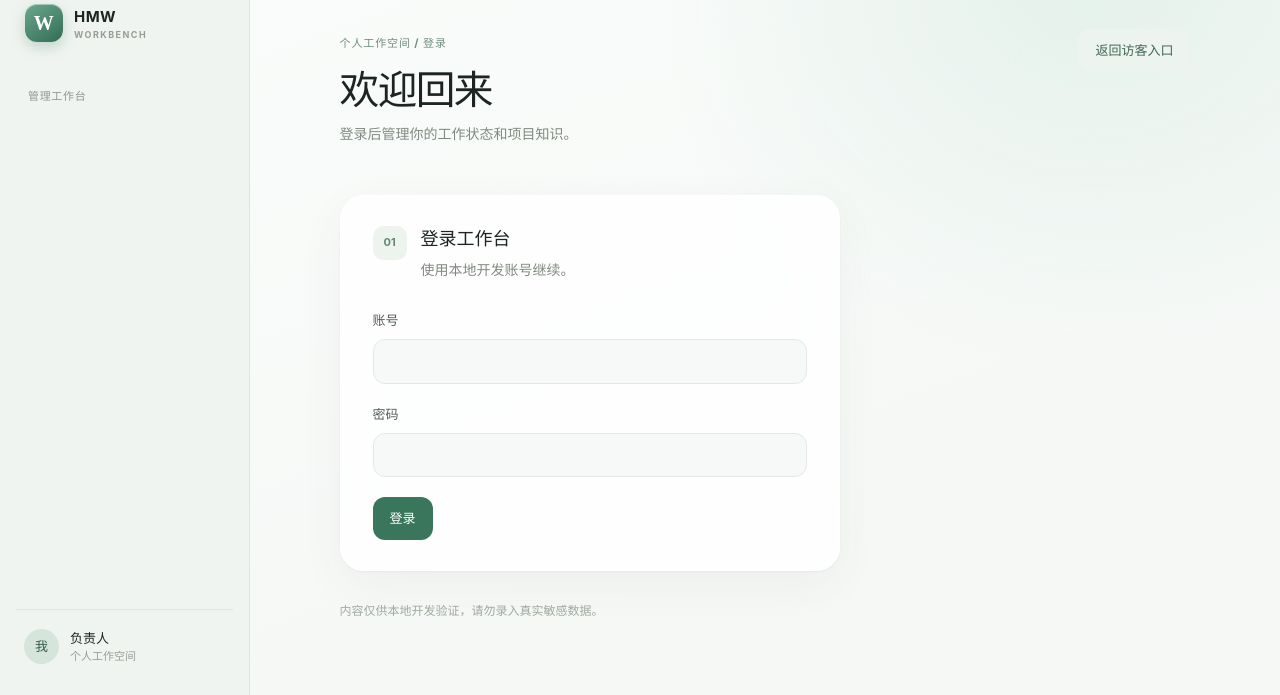
Test: allows the owner to withdraw a published status
The width and height of the screenshot is (1280, 695).
Step 1. Type "owner" into the field labelled "账号" → (590, 361), box [373,339,807,384]
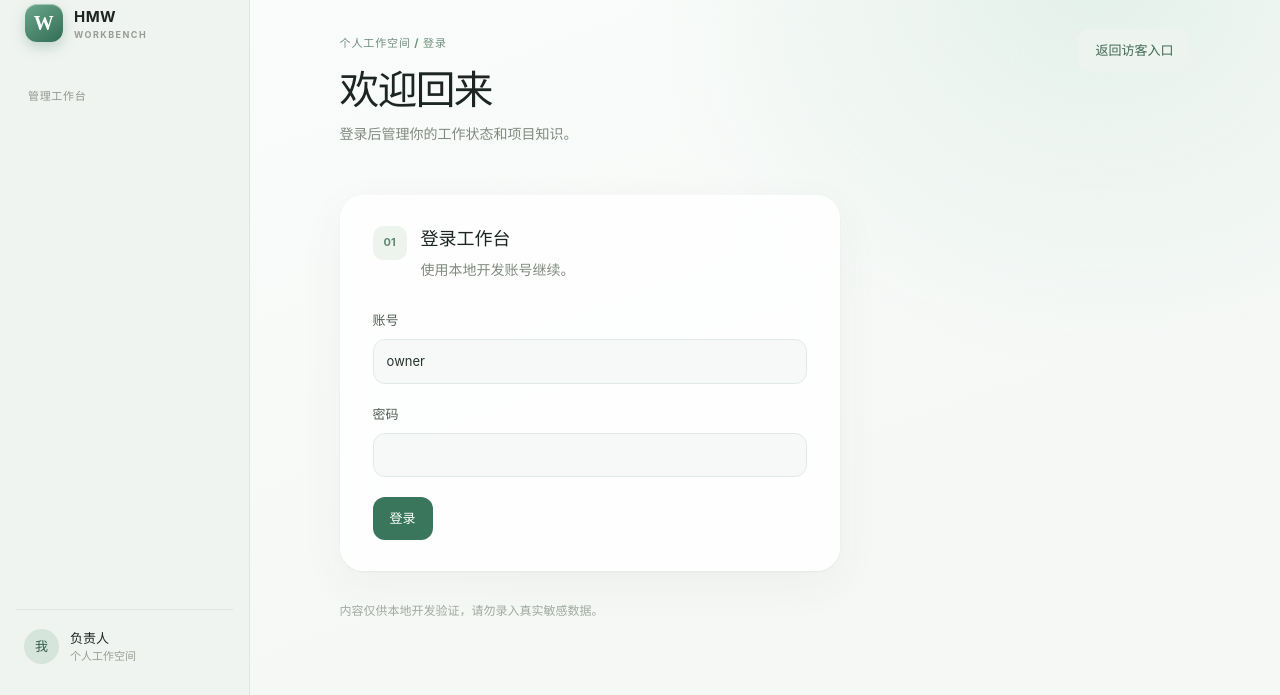
Step 2. Type "password" into the password field labelled "密码" → (590, 455), box [373,432,807,477]
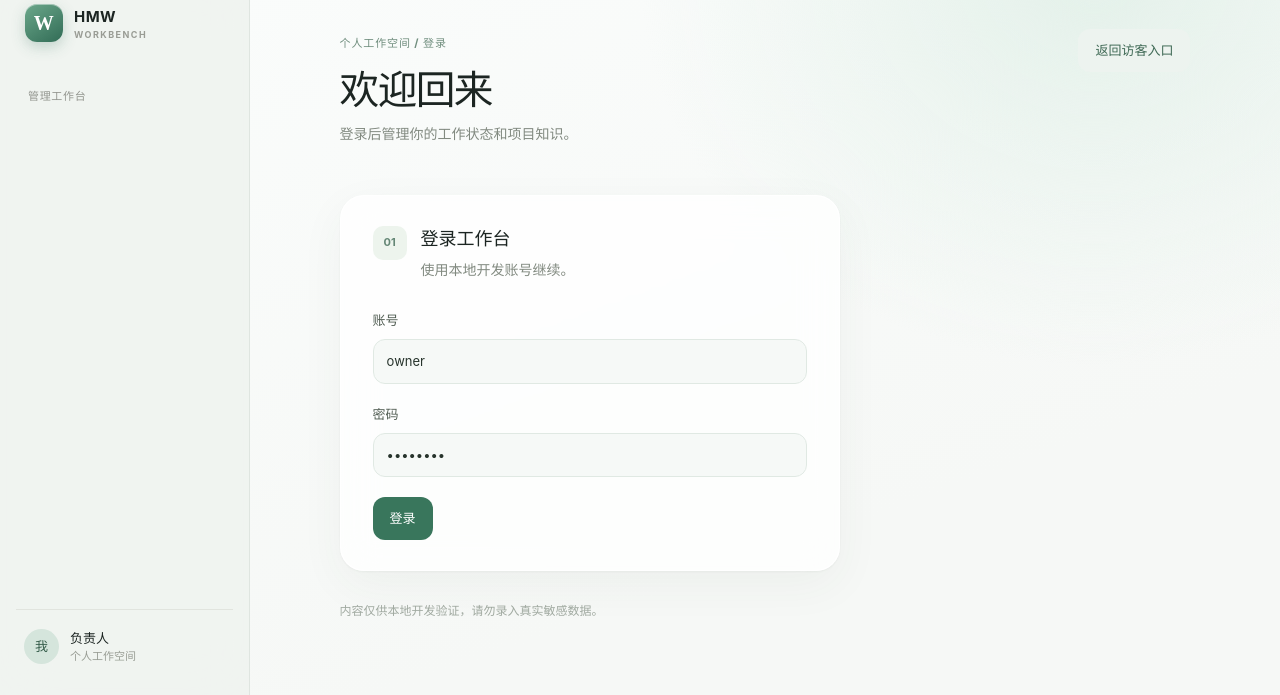
Step 3. Click the button "登录" → (403, 519), box [373,497,433,540]
(page scrolled)
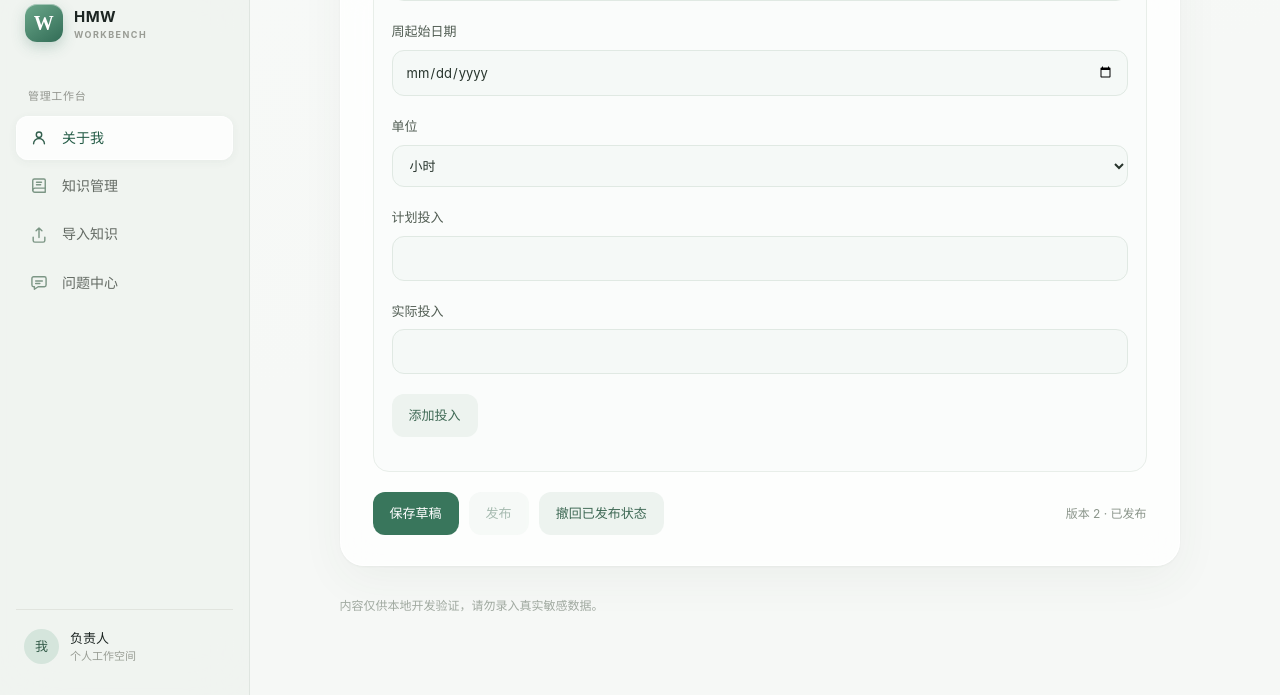
Step 4. Click the button "撤回已发布状态" → (601, 514), box [539,492,664,535]
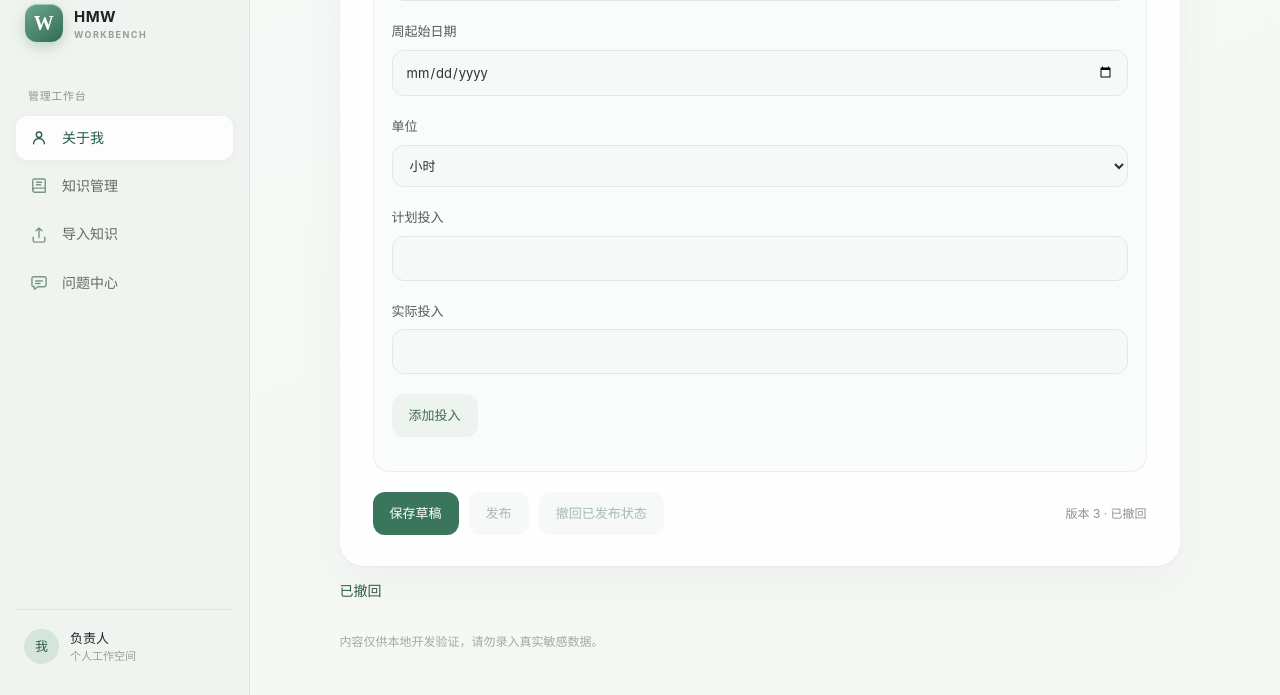
Expected: the text "已撤回" is shown, [340,582,382,599]
